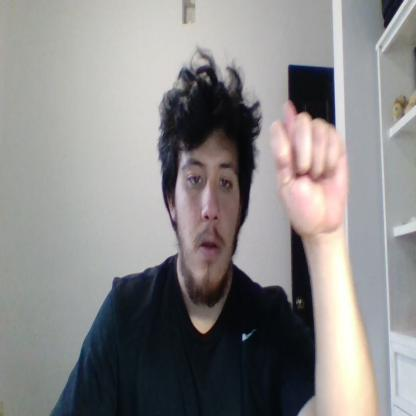T: (269, 99, 347, 236)
